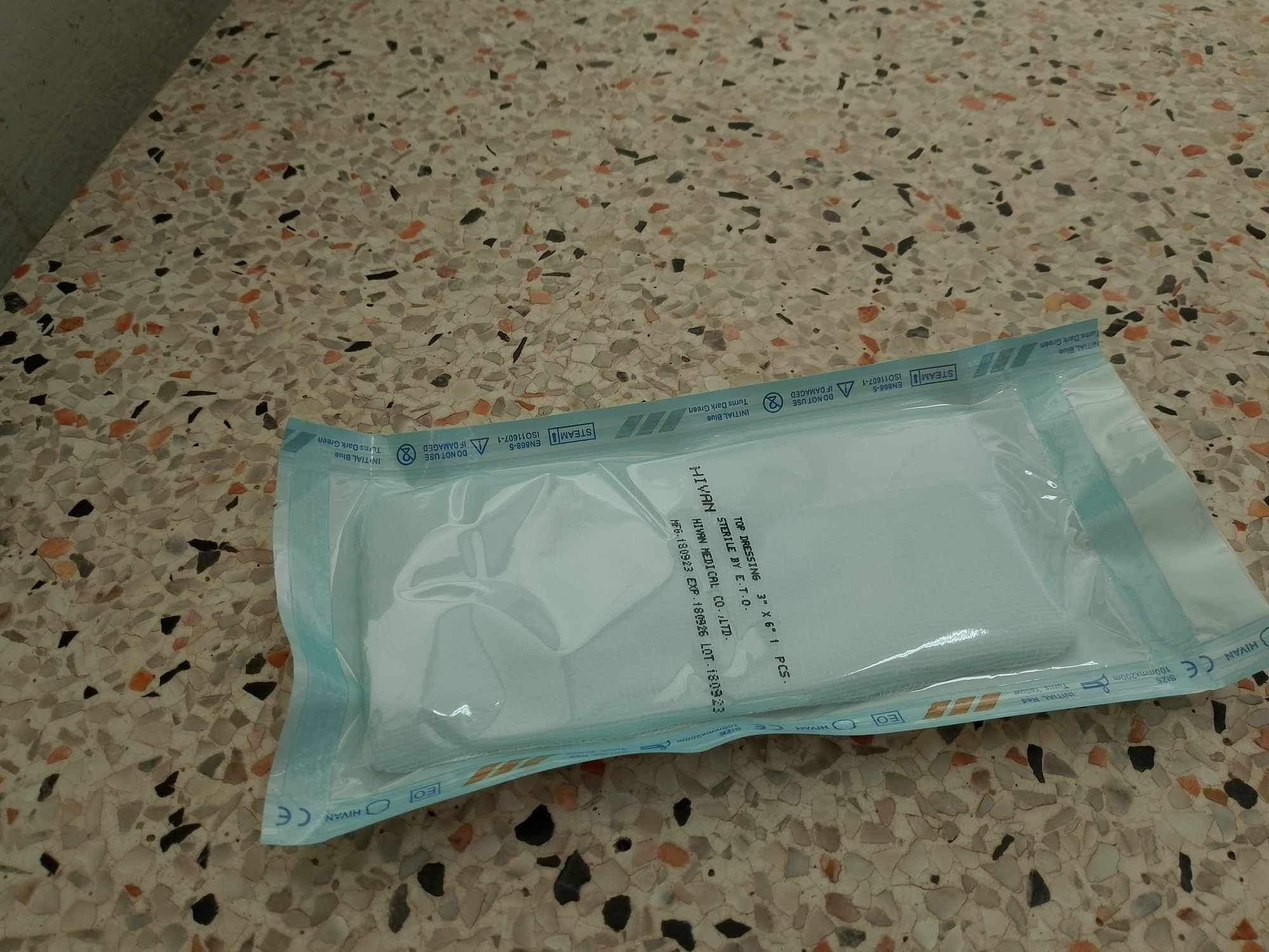Infectious: (260, 317, 1267, 847)
